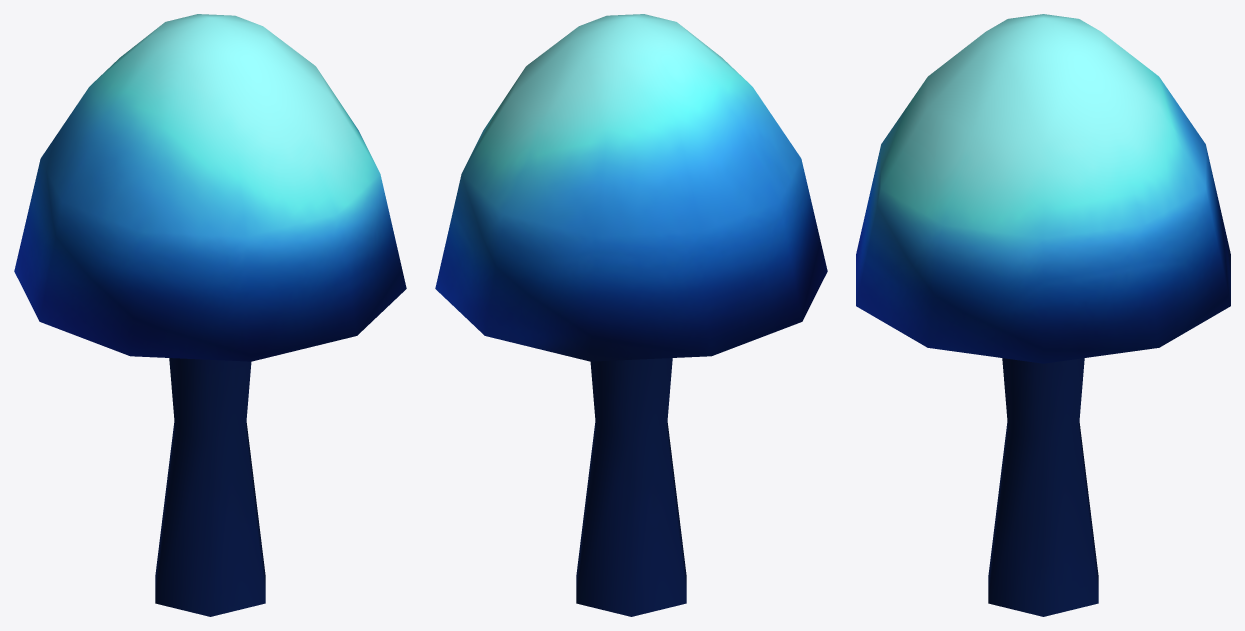
The model's file is Avatar_mushroom_01.fbx.
3 views of the same model, side by side, from view 1: azimuth 30°, elevation 25°; view 2: azimuth 150°, elevation 25°; view 3: azimuth 270°, elevation 25° (orthographic).
Visible parts, largest first — view 1: Avatar_mushroom_01; view 2: Avatar_mushroom_01; view 3: Avatar_mushroom_01.
Part boxes in pixels (<box>): Avatar_mushroom_01: <box>14,14,406,616</box>; Avatar_mushroom_01: <box>435,14,827,616</box>; Avatar_mushroom_01: <box>856,14,1230,616</box>.
Size of the model in its own units: 31.75 by 50.79 by 30.19.
